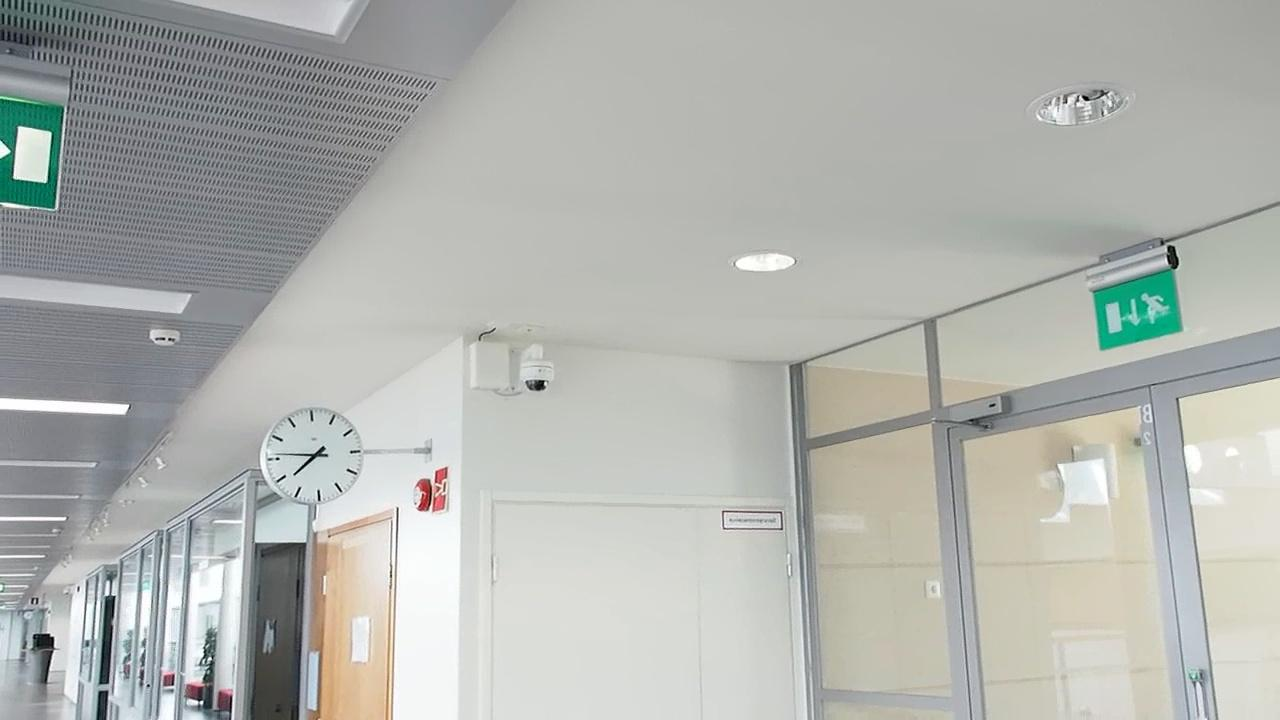clock: (253, 406, 363, 507)
exit: (1093, 273, 1186, 347)
